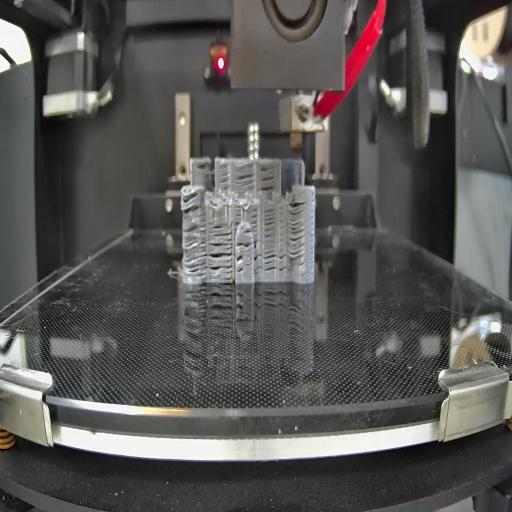cracks: (184, 226, 207, 278), (288, 201, 307, 261), (209, 240, 232, 276), (263, 245, 289, 273), (180, 193, 202, 215), (235, 169, 256, 192), (260, 166, 277, 192), (263, 206, 276, 236), (218, 166, 232, 192), (213, 221, 232, 238), (255, 238, 262, 274), (236, 238, 253, 249), (236, 253, 244, 275), (251, 207, 258, 228), (236, 203, 242, 226), (243, 227, 253, 235)
